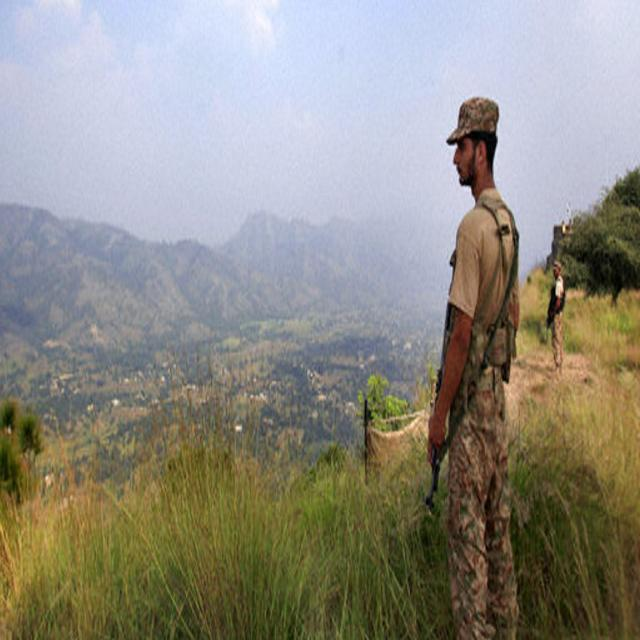Forest: (1, 7, 640, 640)
Militant: (419, 80, 515, 629), (542, 244, 579, 388)
